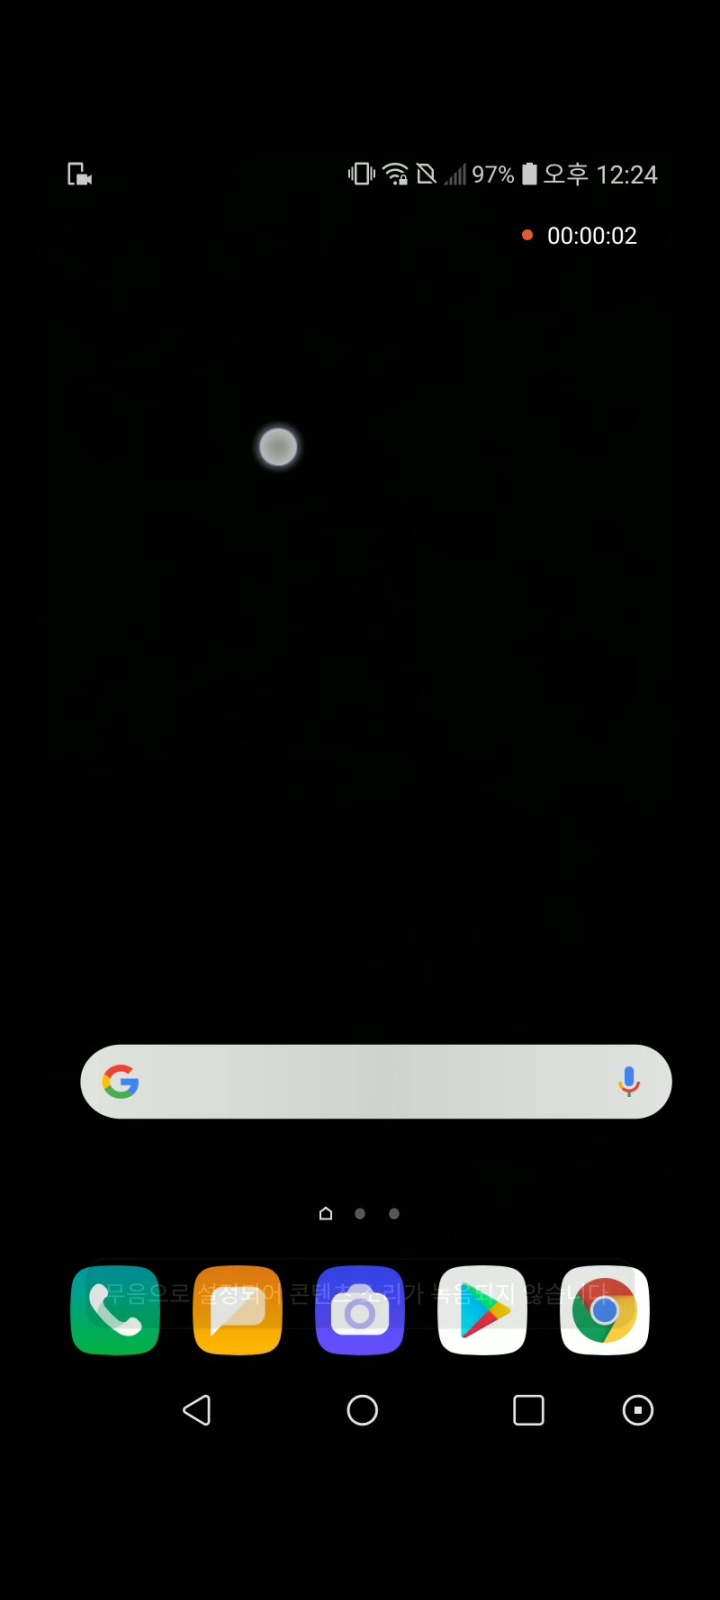Cursor: (257, 426, 302, 471)
